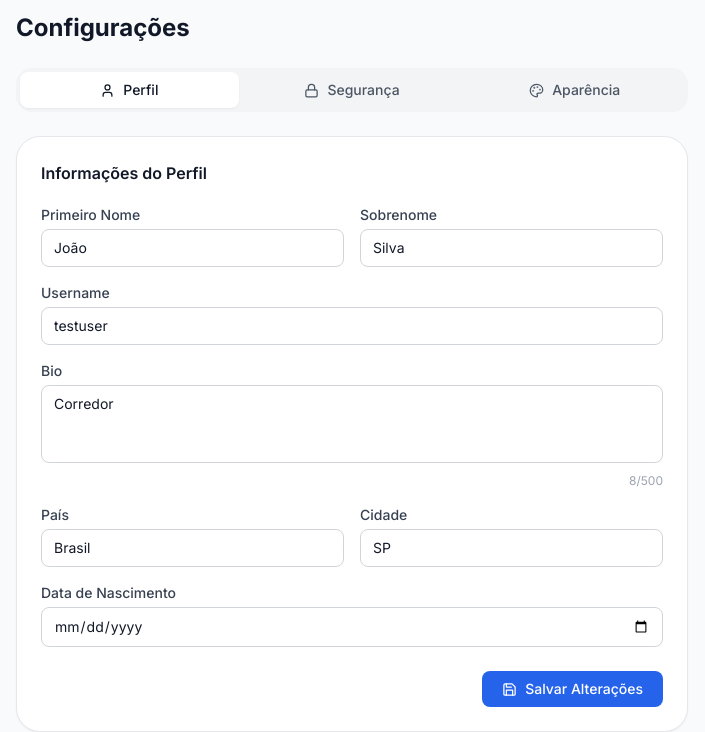
Test: Settings page › Aparência tab › renders theme toggle when Aparência tab is clicked
This screenshot has width=705, height=732.
Click the button "Aparência".
click(575, 90)  # box [465,72,684,108]
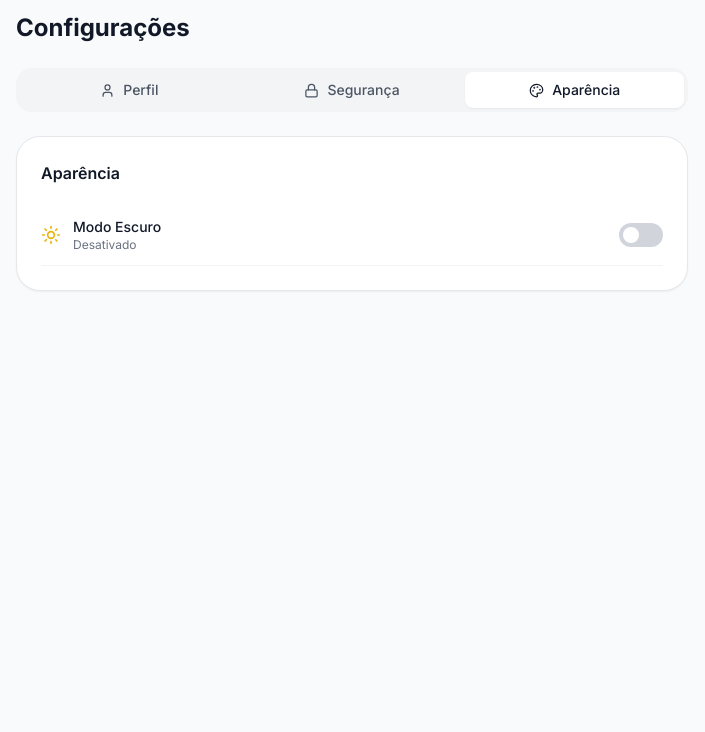
expect the text "Modo Escuro" is shown: met, box [73,217,161,237]
